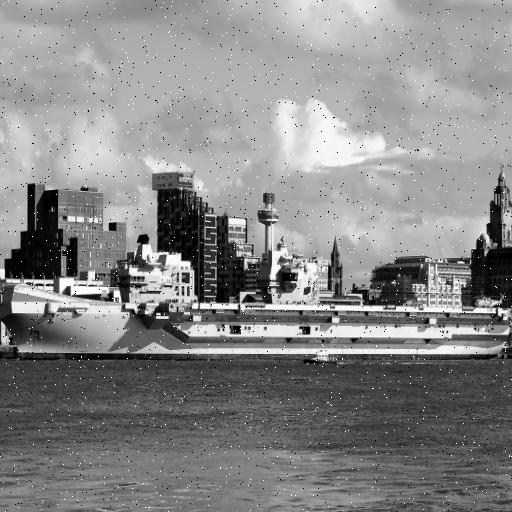Portanaves: (1, 234, 512, 368)
